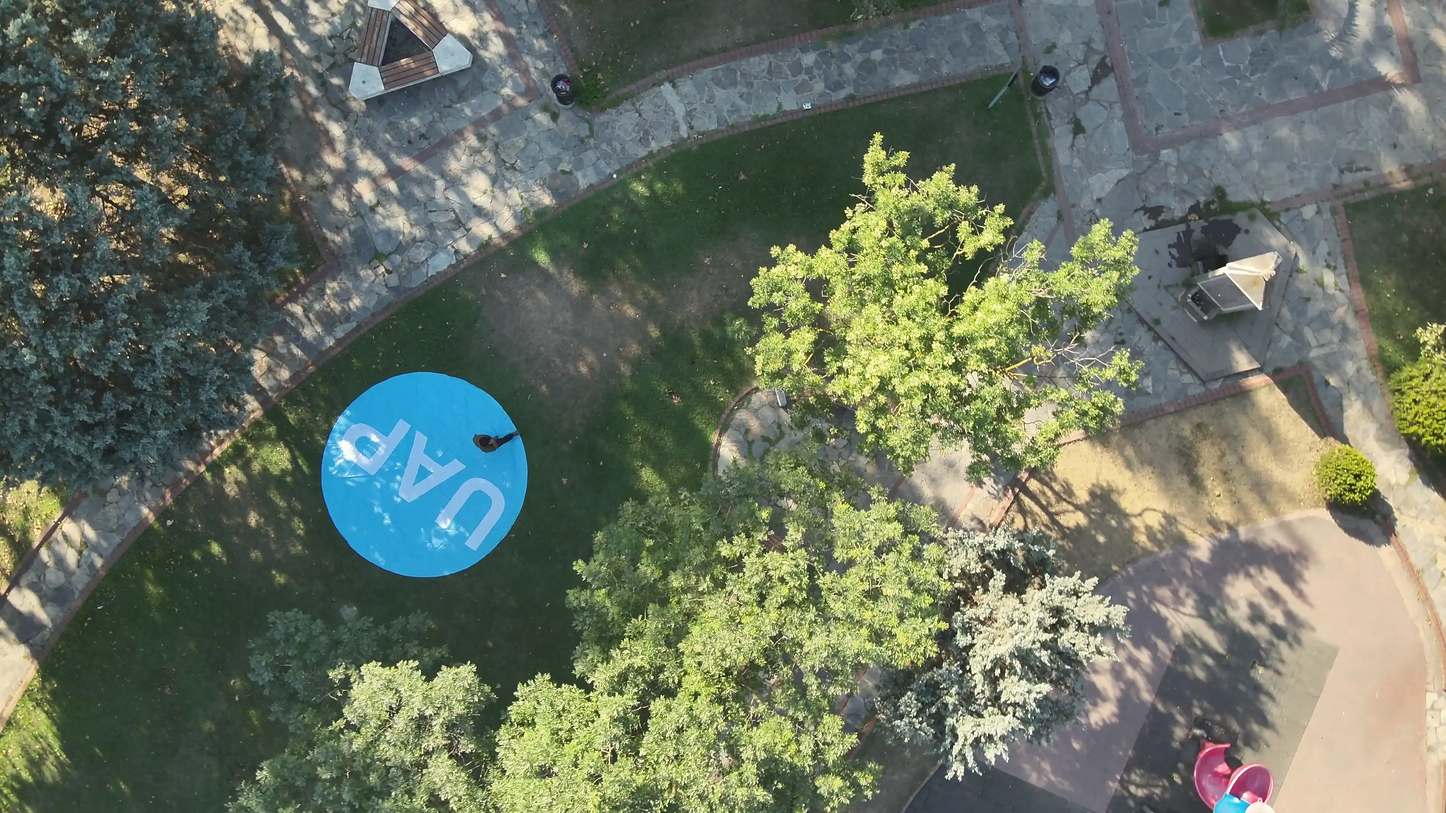UAP: (321, 369, 531, 582)
person: (466, 420, 525, 458)
